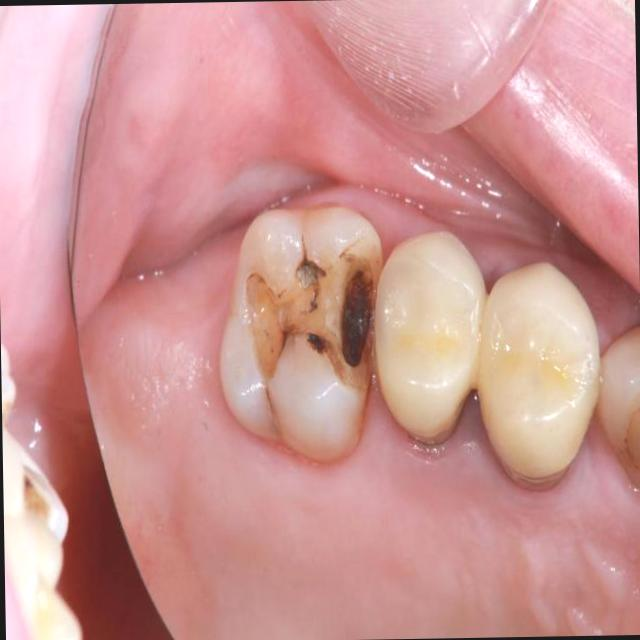caries: (218, 206, 385, 462)
